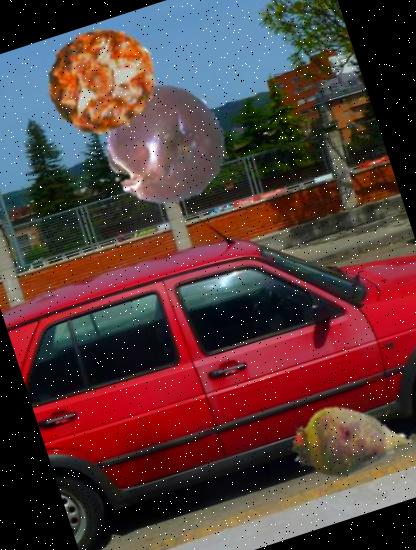Beetroot: (268, 359, 416, 522)
Passion: (87, 68, 239, 220)
Pineapple: (30, 9, 172, 151)
